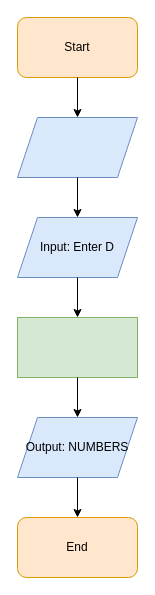
Some shapes in this 155 by 595 pixel diagram are drawn without their labels. Each missing label, with the box of its shape:
Input: Enter NUMBERS: (16, 116, 138, 178)
Move the first D elements of NUMBERS to the end of NUMBERS: (16, 316, 138, 378)
